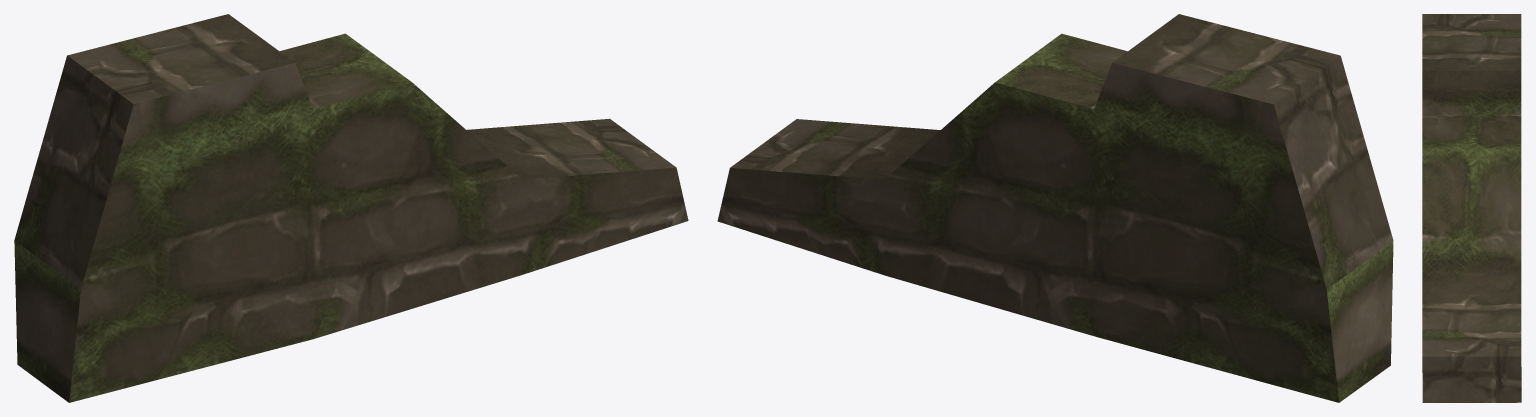
The model's file is yj_shuiqang_3.FBX.
The picture shows the model from 3 angles, left to right: view 1: azimuth 30°, elevation 25°; view 2: azimuth 150°, elevation 25°; view 3: azimuth 270°, elevation 25°; orthographic projection. The views are drawn at different scales.
Parts seen in each view (by area): view 1: yj_shuiqang_3; view 2: yj_shuiqang_3; view 3: yj_shuiqang_3.
Part boxes in pixels (x1=…): yj_shuiqang_3: x1=14, y1=14, x2=688, y2=402; yj_shuiqang_3: x1=717, y1=14, x2=1393, y2=402; yj_shuiqang_3: x1=1422, y1=14, x2=1521, y2=402.
Bounding box in the file's own units: 18.28 × 8.33 × 3.45.
